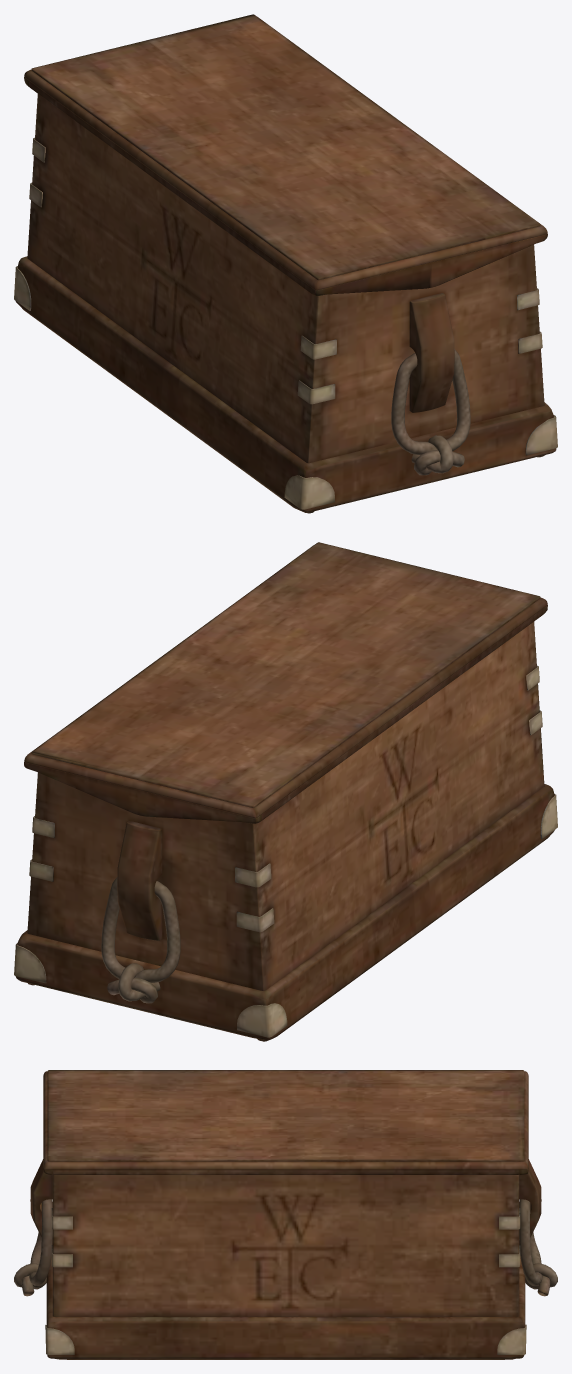
Rendered from wooden_crate_02.glb.
The picture shows the model from 3 angles, top to bottom: view 1: azimuth 30°, elevation 25°; view 2: azimuth 150°, elevation 25°; view 3: azimuth 270°, elevation 25°; orthographic projection. The views are drawn at different scales.
Parts seen in each view (by area): view 1: wooden_crate_02_crate; view 2: wooden_crate_02_crate; view 3: wooden_crate_02_crate.
Boxes of the visible parts, bbox=[...] form: wooden_crate_02_crate: bbox=[14, 14, 557, 513]; wooden_crate_02_crate: bbox=[14, 542, 557, 1041]; wooden_crate_02_crate: bbox=[14, 1070, 557, 1359].
Size of the model in its own units: 0.5291 by 0.4639 by 1.17.
1 material, 1 textured.
